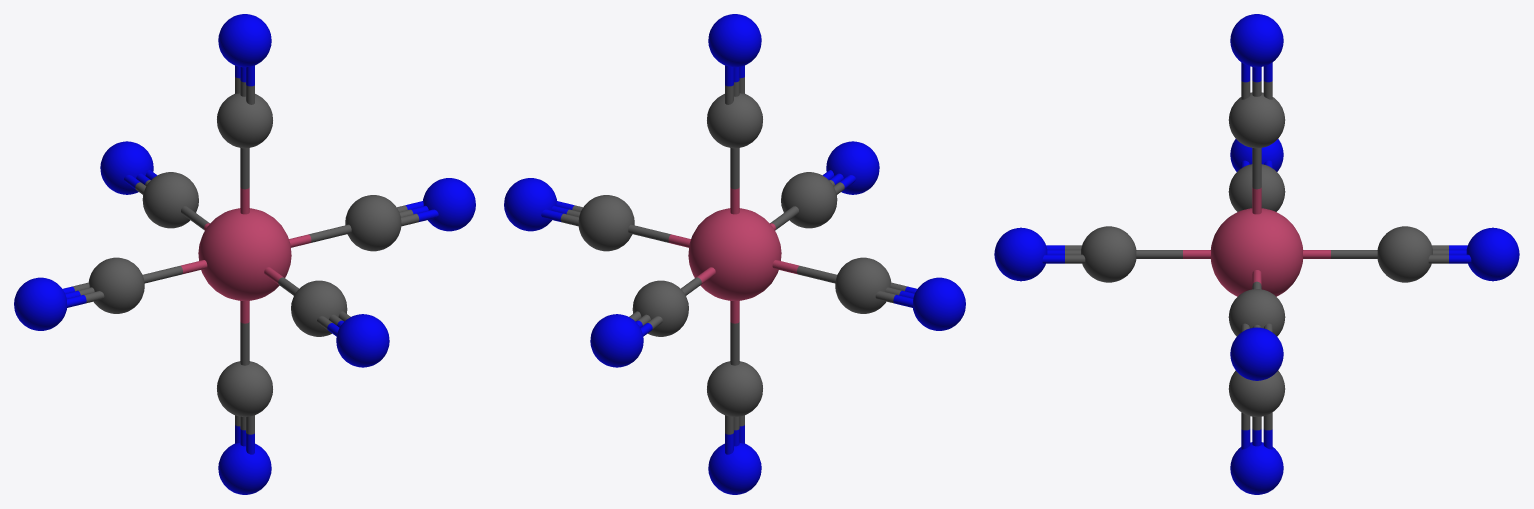
Rendered from hexacyanoferrate-ii.fbx.
3 views of the same model, side by side, from view 1: azimuth 30°, elevation 25°; view 2: azimuth 150°, elevation 25°; view 3: azimuth 270°, elevation 25° (orthographic).
Visible parts, largest first — view 1: Fe01, C10, C08, C04, C02, C06, N03, N13, N07, C12, N09, N11 (+9 smaller); view 2: Fe01, C10, C08, C12, C02, C06, N03, N05, N07, C04, N09, N11 (+9 smaller); view 3: Fe01, C04, C12, C02, N03, N11, N05, N13, N09, C08, C10, C06 (+8 smaller).
Part boxes in pixels (x1,y1,x2,y2): Fe01: (198,208,291,300); C10: (345,195,401,251); C08: (217,361,272,416); C04: (142,172,198,228); C02: (217,93,272,148); C06: (88,257,144,313); N03: (218,14,271,67); N13: (336,314,389,367); N07: (14,277,66,330); C12: (291,280,347,336); N09: (218,443,271,494); N11: (423,178,475,231); Fe01: (688,208,781,300); C10: (578,195,634,251); C08: (707,361,762,416); C12: (781,172,837,228); C02: (707,93,762,148); C06: (835,257,891,313); N03: (708,14,761,67); N05: (590,314,643,367); N07: (913,277,965,330); C04: (632,280,688,336); N09: (708,443,761,494); N11: (504,178,556,231); Fe01: (1210,208,1303,296); C04: (1377,226,1432,282); C12: (1081,226,1136,282); C02: (1228,92,1285,148); N03: (1230,14,1283,67); N11: (1230,327,1283,380); N05: (1466,227,1519,281); N13: (994,227,1047,281); N09: (1230,442,1283,494); C08: (1228,370,1285,416); C10: (1228,289,1285,336); C06: (1228,164,1285,211).
Size of the model in its own units: 697 by 697 by 697.
